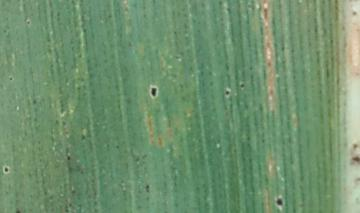tarspot: (147, 82, 161, 101), (273, 192, 285, 212), (222, 87, 234, 99), (79, 132, 89, 142), (2, 164, 11, 175), (239, 80, 246, 92), (25, 17, 33, 27), (145, 181, 151, 194), (7, 74, 14, 83), (65, 153, 72, 162)
